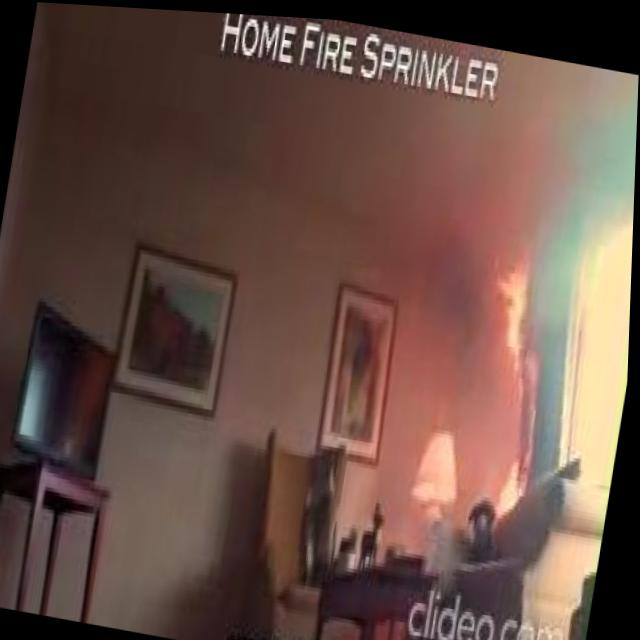fire: (482, 237, 543, 368), (492, 438, 535, 520)
